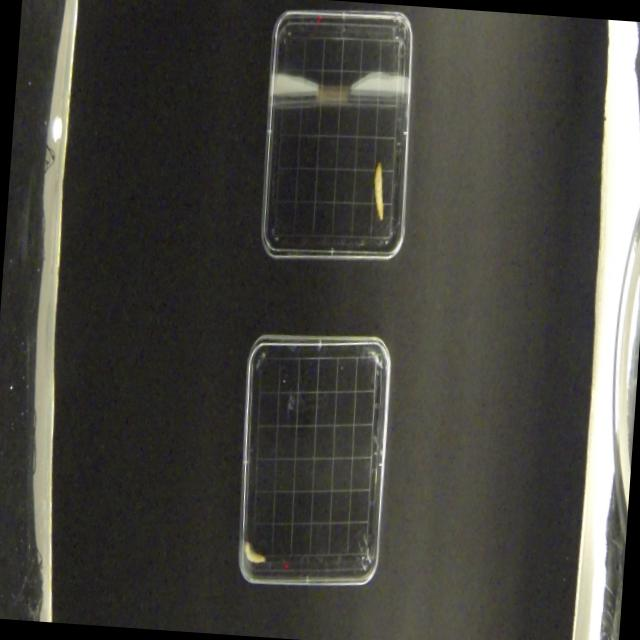larva: (371, 156, 387, 220), (242, 537, 266, 565)
